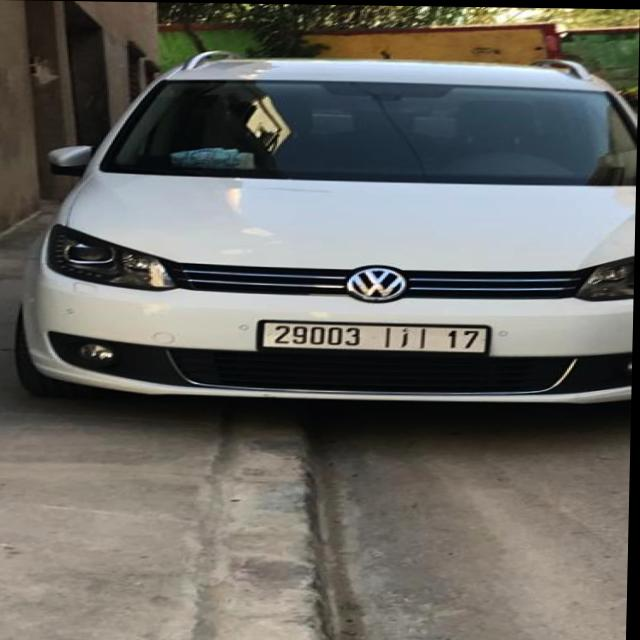License-Plate: (261, 321, 489, 351)
